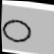no answer: (1, 18, 32, 46)
